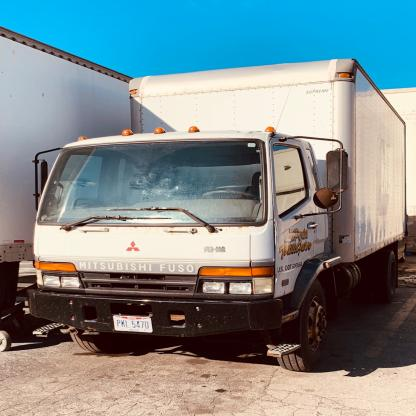truck: (26, 56, 409, 361)
